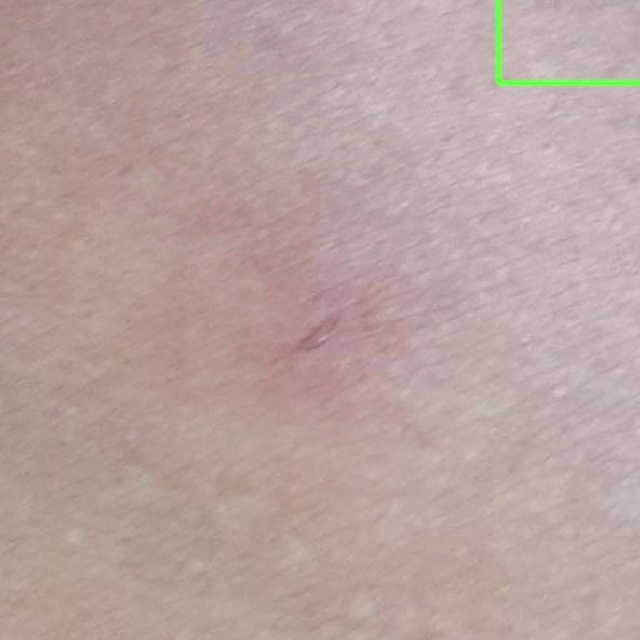Seborrheic Dermatitis: (499, 0, 639, 83)
